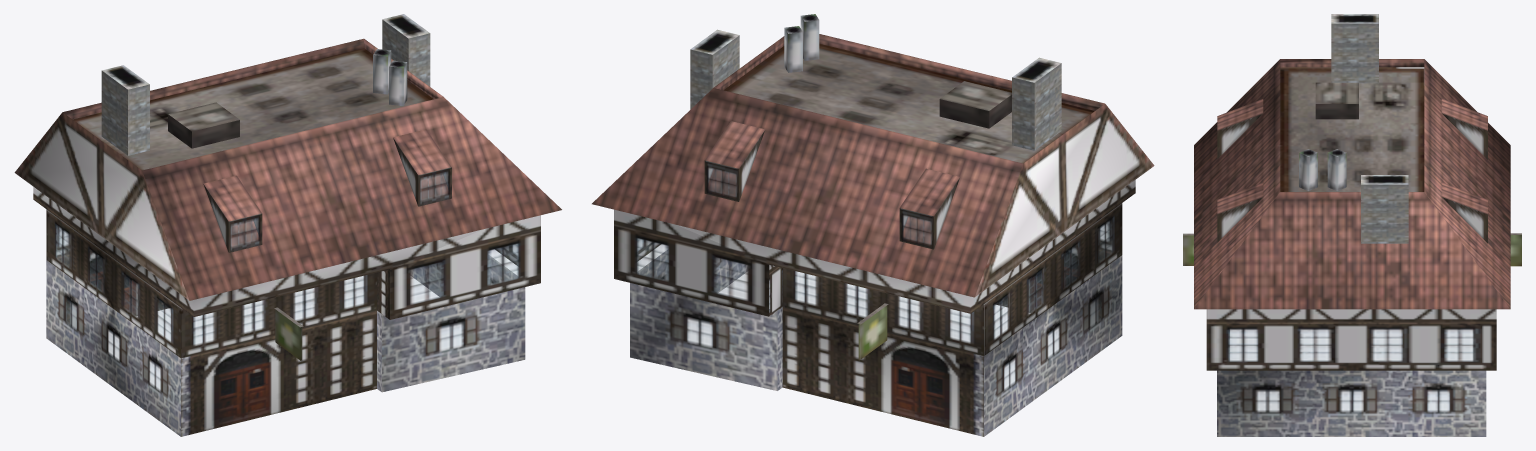
File: Civilian - Civilian Building - German Pub 02 - CBGPub02.glb
The picture shows the model from 3 angles, left to right: view 1: azimuth 30°, elevation 25°; view 2: azimuth 150°, elevation 25°; view 3: azimuth 270°, elevation 25°; orthographic projection. The views are drawn at different scales.
Visible parts, largest first — view 1: CBGPUB02; view 2: CBGPUB02; view 3: CBGPUB02.
Boxes of the visible parts, x1,y1,x2,y2 form: CBGPUB02: [14, 14, 561, 436]; CBGPUB02: [592, 14, 1154, 436]; CBGPUB02: [1183, 14, 1521, 436].
Bounding box in the file's own units: 53.35 × 41.76 × 46.48.
1 material, 1 textured.
